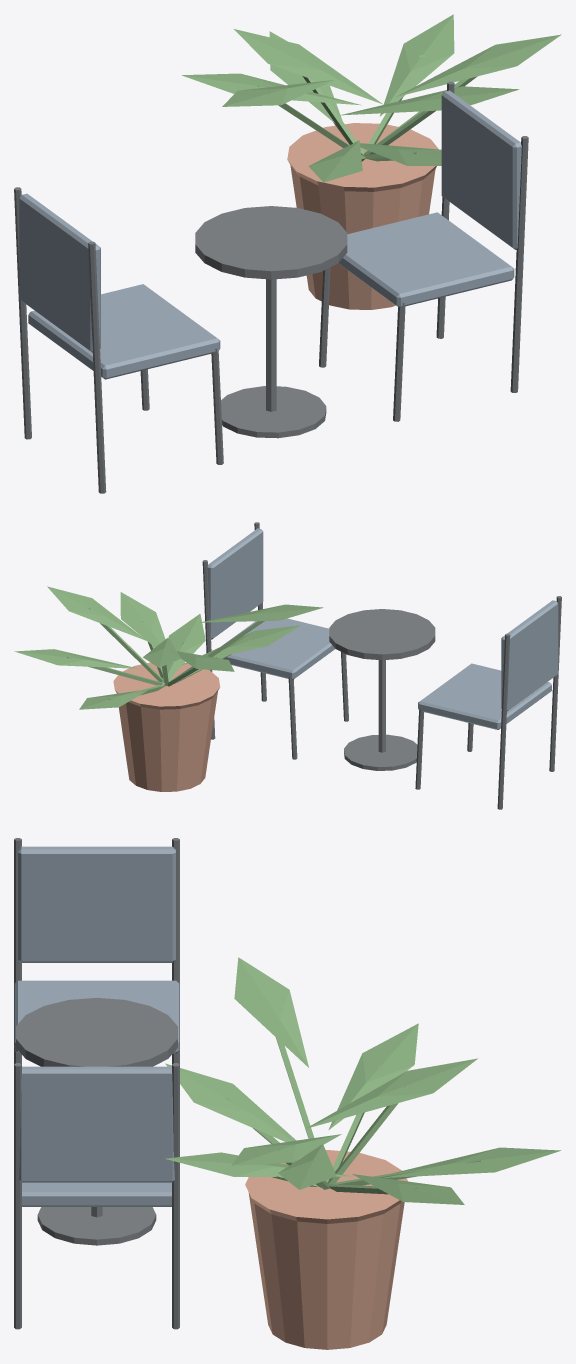
File: balc_r.glb
3 renders of one model, top to bottom at view 1: azimuth 30°, elevation 25°; view 2: azimuth 150°, elevation 25°; view 3: azimuth 270°, elevation 25°, orthographic. The views are drawn at different scales.
Parts seen in each view (by area): view 1: balc_r_fabric2, balc_r_steel_d, balc_r_plant, balc_r_pot; view 2: balc_r_fabric2, balc_r_steel_d, balc_r_plant, balc_r_pot; view 3: balc_r_fabric2, balc_r_plant, balc_r_pot, balc_r_steel_d.
Boxes of the visible parts, x1,y1,x2,y2 form: balc_r_fabric2: (19,90,521,379); balc_r_steel_d: (14,81,528,493); balc_r_plant: (182,14,561,182); balc_r_pot: (287,123,438,309); balc_r_fabric2: (207,528,558,729); balc_r_steel_d: (202,522,561,809); balc_r_plant: (14,586,323,709); balc_r_pot: (113,662,220,791); balc_r_fabric2: (14,846,179,1206); balc_r_plant: (165,957,560,1204); balc_r_pot: (245,1150,407,1349); balc_r_steel_d: (14,838,179,1329).
Bounding box in the file's own units: 2.26 × 0.9127 × 1.66.
